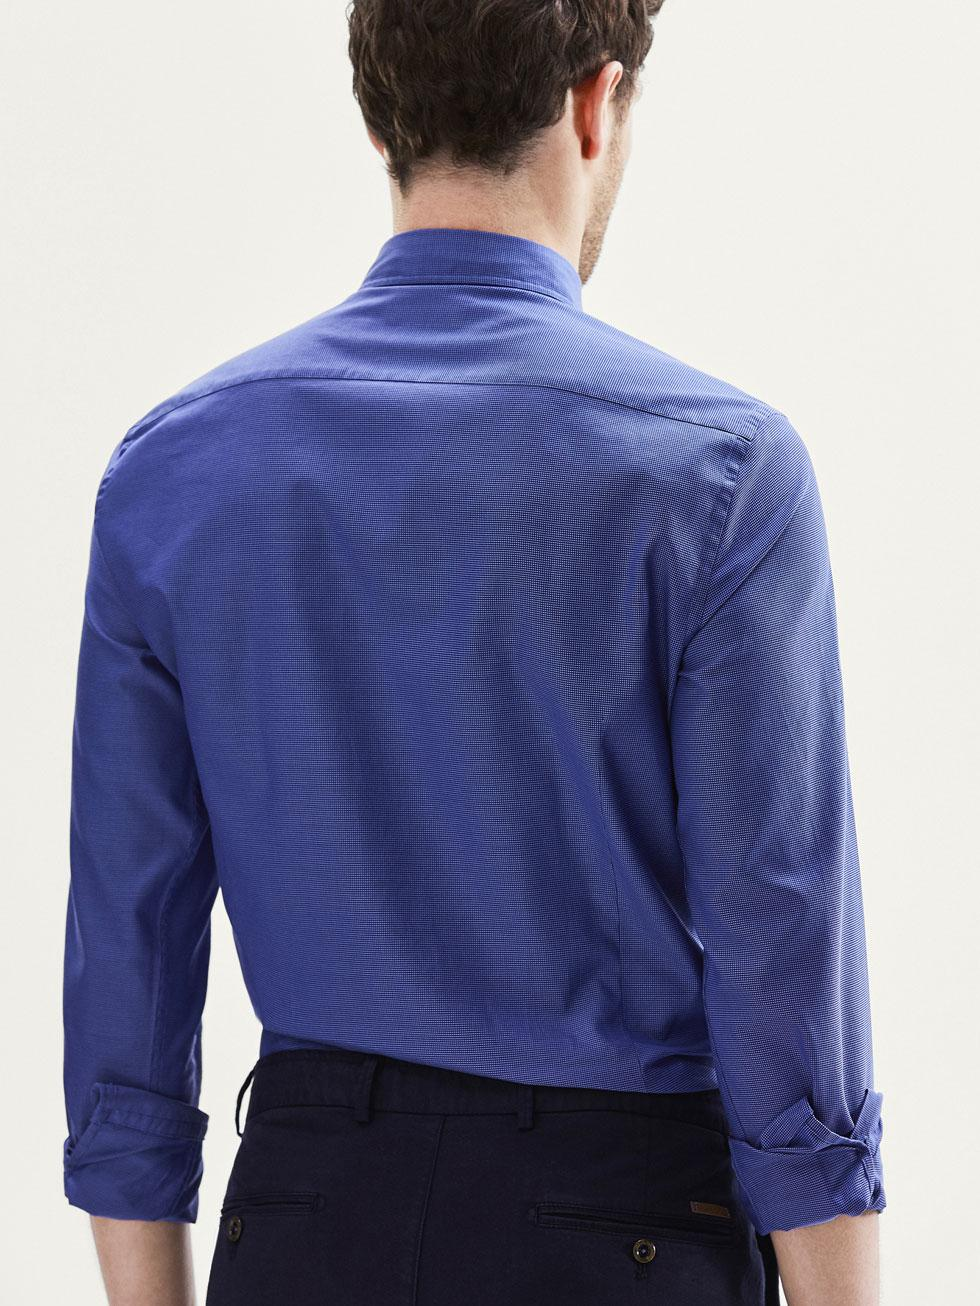teeshirt: (52, 227, 945, 1193)
